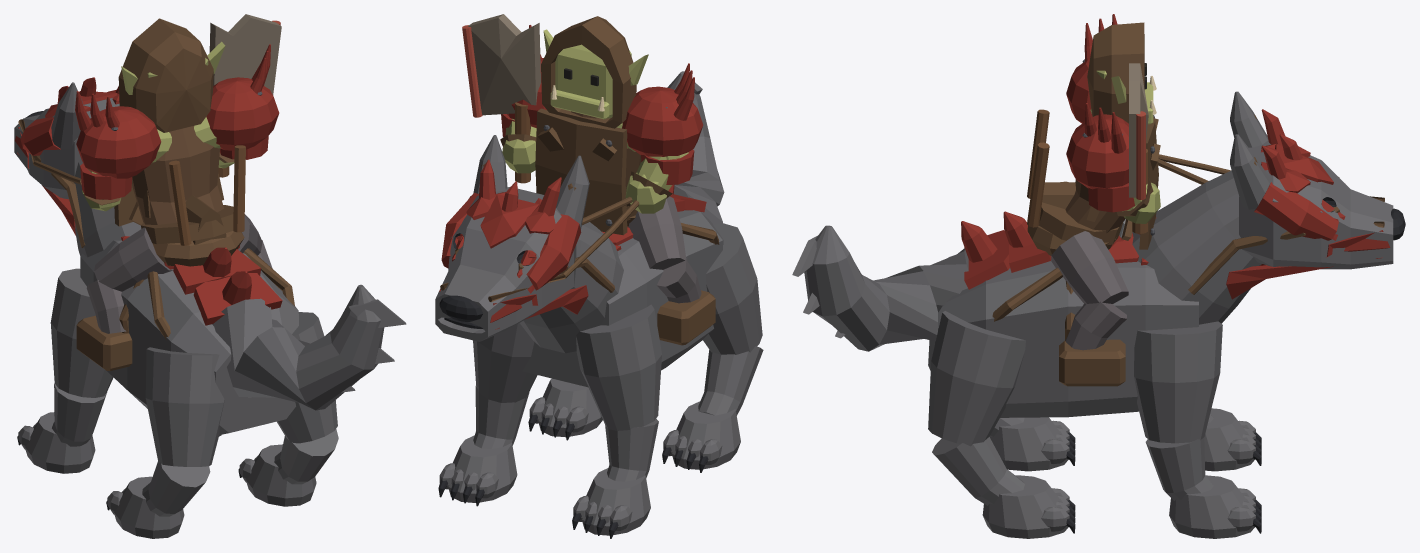
Rendered from host_19.glb.
3 views of the same model, side by side, from view 1: azimuth 30°, elevation 25°; view 2: azimuth 150°, elevation 25°; view 3: azimuth 270°, elevation 25° (orthographic). The views are drawn at different scales.
Parts seen in each view (by area): view 1: V6 wolf source broad bushy curled tail, V6 mount continuous anatomical thorax, V6 mount anatomical thigh BL, V6 source fitted domed cloth hood, V6 rider source seated thorax, V6 mount anatomical thigh FL, V6 wolf rider source thick fitted spiked pauldron L, V6 wolf rider source thick fitted spiked pauldron R, V6 source jagged rusty forged cleaver whole blade, V6 rider actual connected seated thigh L, V6 mount anatomical thigh BR, V6 mount anatomical paw FL (+27 smaller); view 2: V6 wolf source faceted skull, V6 mount anatomical thigh FL, V6 mount continuous anatomical thorax, V6 bloodwolf rider fitted broad strapped brown breast, V6 source jagged rusty forged cleaver whole blade, V6 mount anatomical thigh BL, V6 wolf curved muscular neck, V6 source fitted domed cloth hood, V6 wolf rider source thick fitted spiked pauldron L, V6 mount anatomical thigh FR, V6 mount anatomical shin BL, V6 rider actual connected seated thigh L (+37 smaller); view 3: V6 mount continuous anatomical thorax, V6 wolf source broad bushy curled tail, V6 wolf curved muscular neck, V6 mount anatomical thigh BR, V6 mount anatomical thigh FR, V6 wolf source faceted skull, V6 source fitted domed cloth hood, V6 rider actual connected seated thigh R, V6 mount anatomical shin BR, V6 mount anatomical paw FR, V6 mount anatomical paw BR, V6 wolf rider source thick fitted spiked pauldron R (+25 smaller).
Part boxes in pixels (x1,y1,x2,y2): V6 wolf source broad bushy curled tail: (212,284,384,410); V6 mount continuous anatomical thorax: (80,240,298,434); V6 mount anatomical thigh BL: (145,347,224,466); V6 source fitted domed cloth hood: (118,18,213,132); V6 rider source seated thorax: (132,126,223,224); V6 mount anatomical thigh FL: (50,268,113,397); V6 wolf rider source thick fitted spiked pauldron L: (76,106,161,178); V6 wolf rider source thick fitted spiked pauldron R: (206,77,279,150); V6 source jagged rusty forged cleaver whole blade: (209,14,281,95); V6 rider actual connected seated thigh L: (94,227,173,291); V6 mount anatomical thigh BR: (277,312,337,443); V6 mount anatomical paw FL: (24,412,95,473); V6 wolf source faceted skull: (435,186,576,341); V6 mount anatomical thigh FL: (576,304,661,430); V6 mount continuous anatomical thorax: (522,210,723,387); V6 bloodwolf rider fitted broad strapped brown breast: (535,108,627,235); V6 source jagged rusty forged cleaver whole blade: (468,14,540,115); V6 mount anatomical thigh BL: (703,223,762,354); V6 wolf curved muscular neck: (520,222,623,353); V6 source fitted domed cloth hood: (541,16,636,128); V6 wolf rider source thick fitted spiked pauldron L: (622,86,703,156); V6 mount anatomical thigh FR: (473,323,537,402); V6 mount anatomical shin BL: (698,346,763,415); V6 rider actual connected seated thigh L: (628,196,686,269); V6 mount continuous anatomical thorax: (938,260,1198,417); V6 wolf source broad bushy curled tail: (804,225,968,351); V6 wolf curved muscular neck: (1132,170,1261,324); V6 mount anatomical thigh BR: (928,311,1025,446); V6 mount anatomical thigh FR: (1134,321,1222,443); V6 wolf source faceted skull: (1239,140,1393,269); V6 source fitted domed cloth hood: (1087,22,1144,123); V6 rider actual connected seated thigh R: (1051,231,1128,303); V6 mount anatomical shin BR: (932,437,1024,505); V6 mount anatomical paw FR: (1169,475,1254,538); V6 mount anatomical paw BR: (982,475,1068,538); V6 wolf rider source thick fitted spiked pauldron R: (1066,114,1128,189).
Size of the model in its own units: 0.9844 by 1.95 by 2.3.
